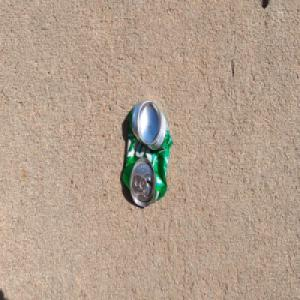SodaCan: (121, 95, 173, 207)
